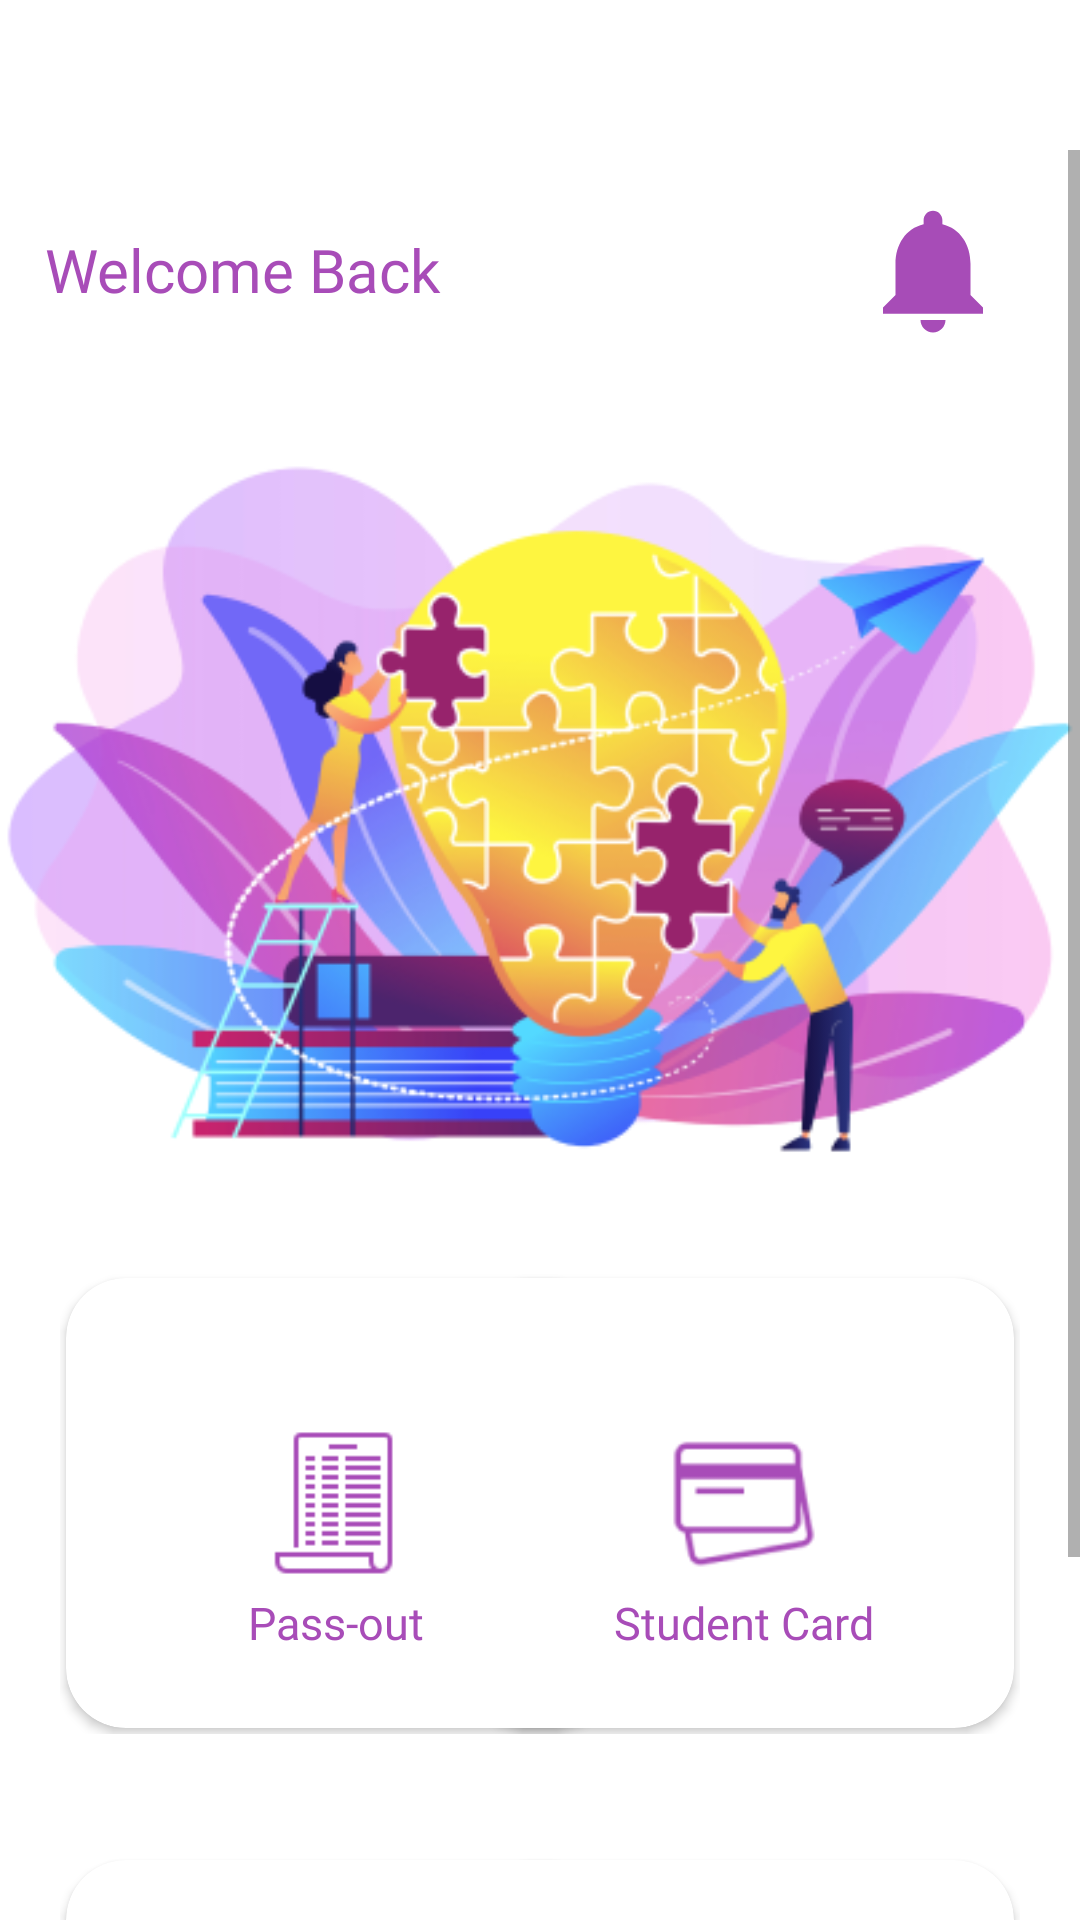

Icons on this 1080w x 1920h Android screen, each with the point to tap as point (x, y):
notifications: point (933, 271)
